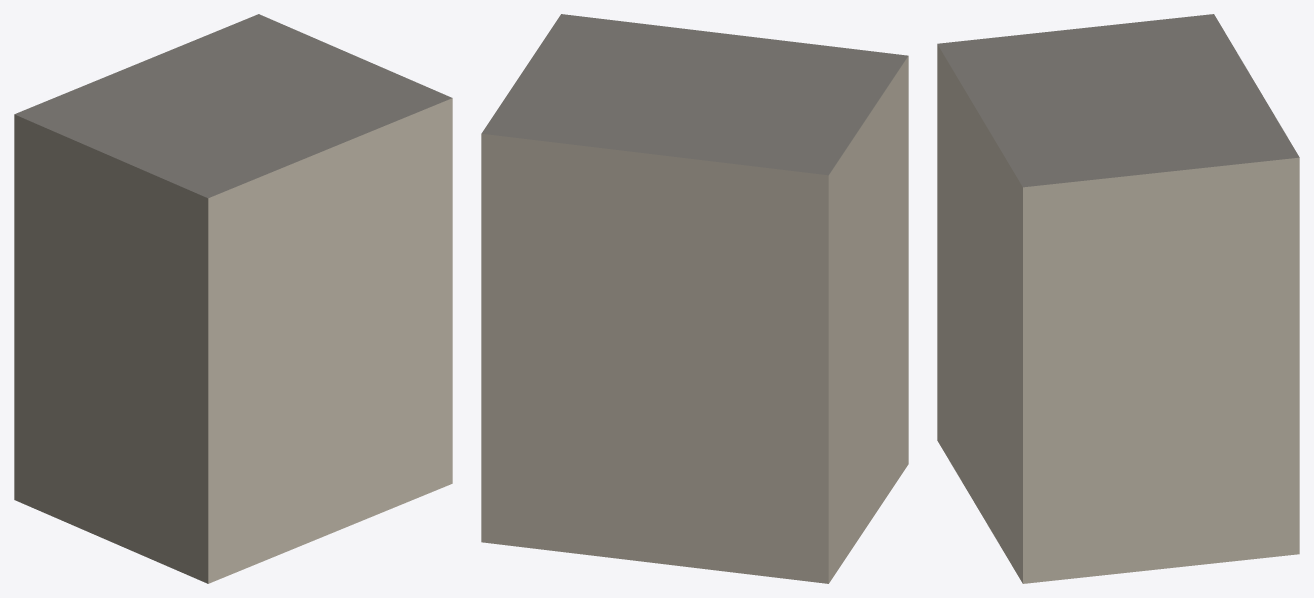
3 renders of one model, left to right at view 1: azimuth 30°, elevation 25°; view 2: azimuth 150°, elevation 25°; view 3: azimuth 270°, elevation 25°, orthographic. The views are drawn at different scales.
Visible parts, largest first — view 1: HP-w1197725298; view 2: HP-w1197725298; view 3: HP-w1197725298.
Part boxes in pixels (bbox=[...]): HP-w1197725298: bbox=[14, 14, 452, 583]; HP-w1197725298: bbox=[481, 14, 908, 583]; HP-w1197725298: bbox=[937, 14, 1299, 583].
Bounding box in the file's own units: 16.87 × 18 × 14.91.
